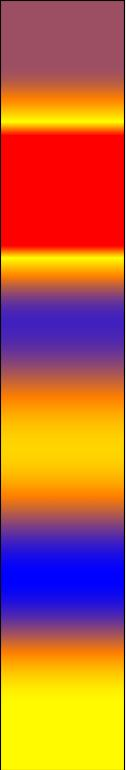Thermal Runaway: (5, 103, 119, 275), (3, 372, 114, 498), (10, 656, 119, 763)
critical: (6, 9, 115, 95), (13, 626, 114, 646), (8, 508, 114, 526), (6, 284, 115, 295)
safe: (8, 532, 116, 618), (13, 306, 114, 360)
